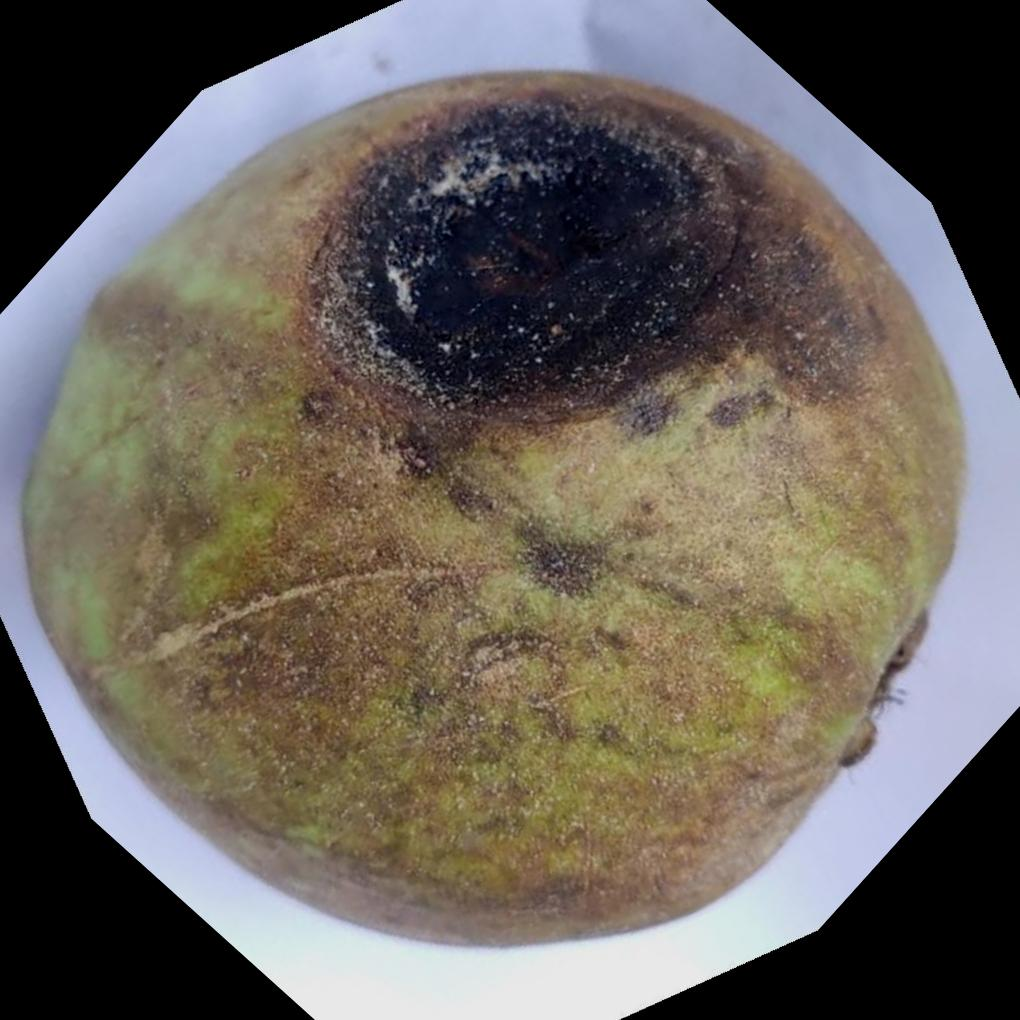FreshOrange: (13, 68, 968, 954)
